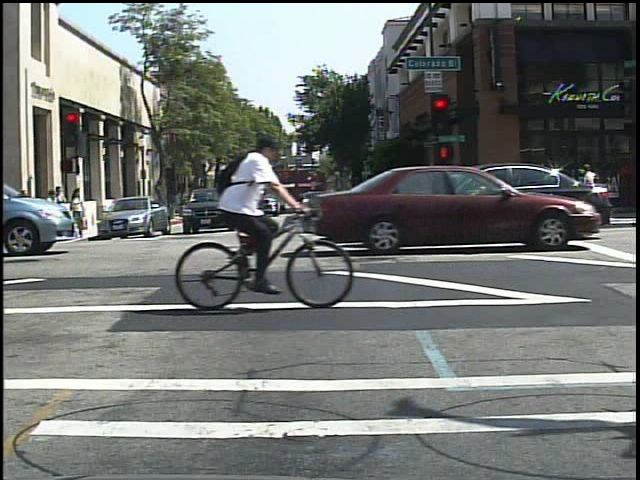person: (216, 124, 299, 303), (581, 159, 607, 224)
